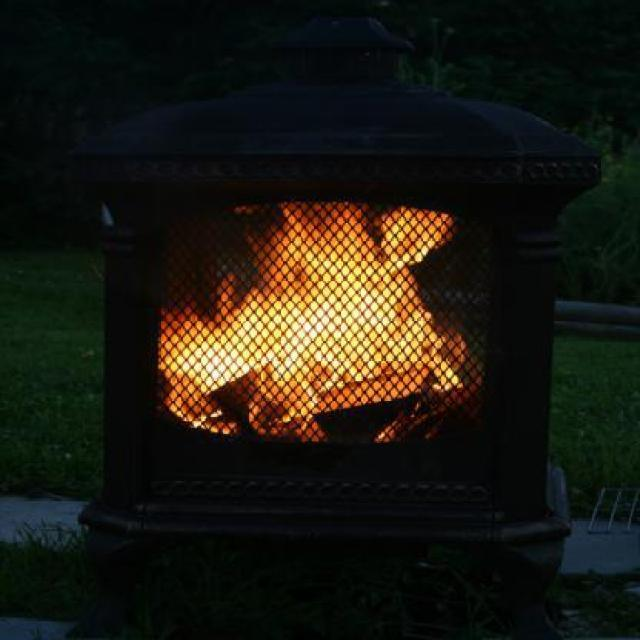Fire: (160, 205, 472, 402), (252, 403, 318, 442), (174, 402, 232, 438), (380, 425, 400, 447)
